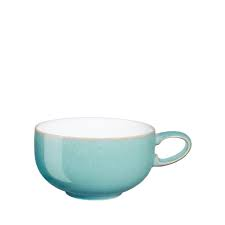cup: (30, 114, 196, 205)
